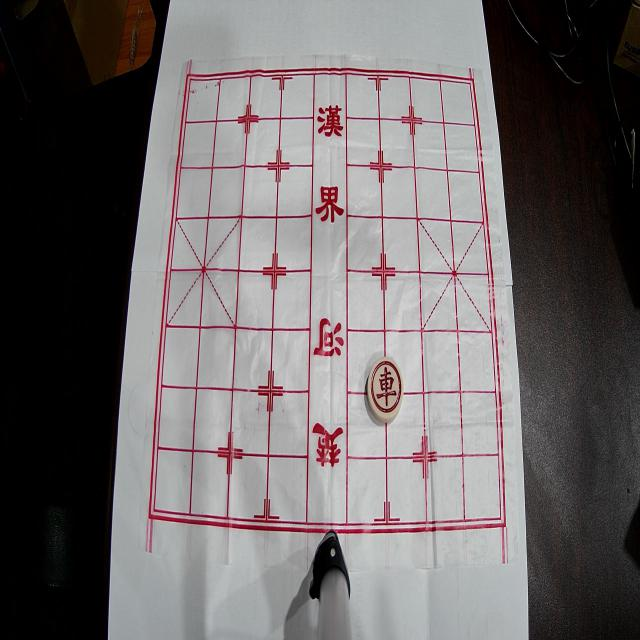red-chariot: (368, 357, 403, 422)
